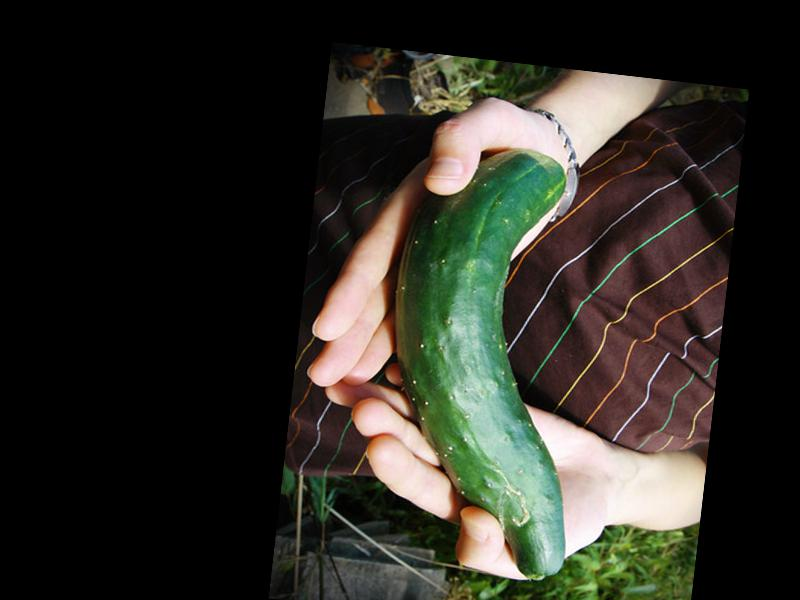Cucumber: (365, 136, 610, 580)
